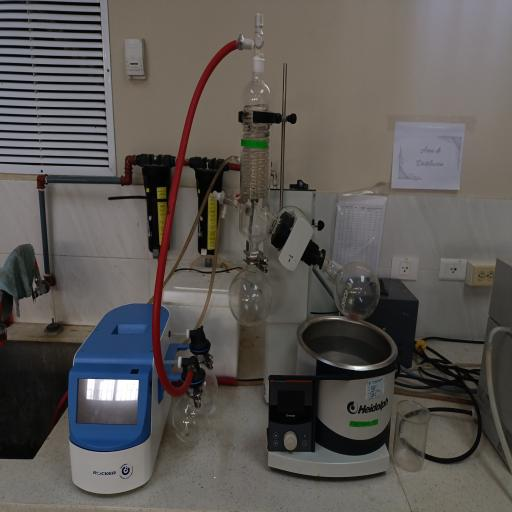Sistema_Rotaevaporacion: (62, 6, 416, 497)
